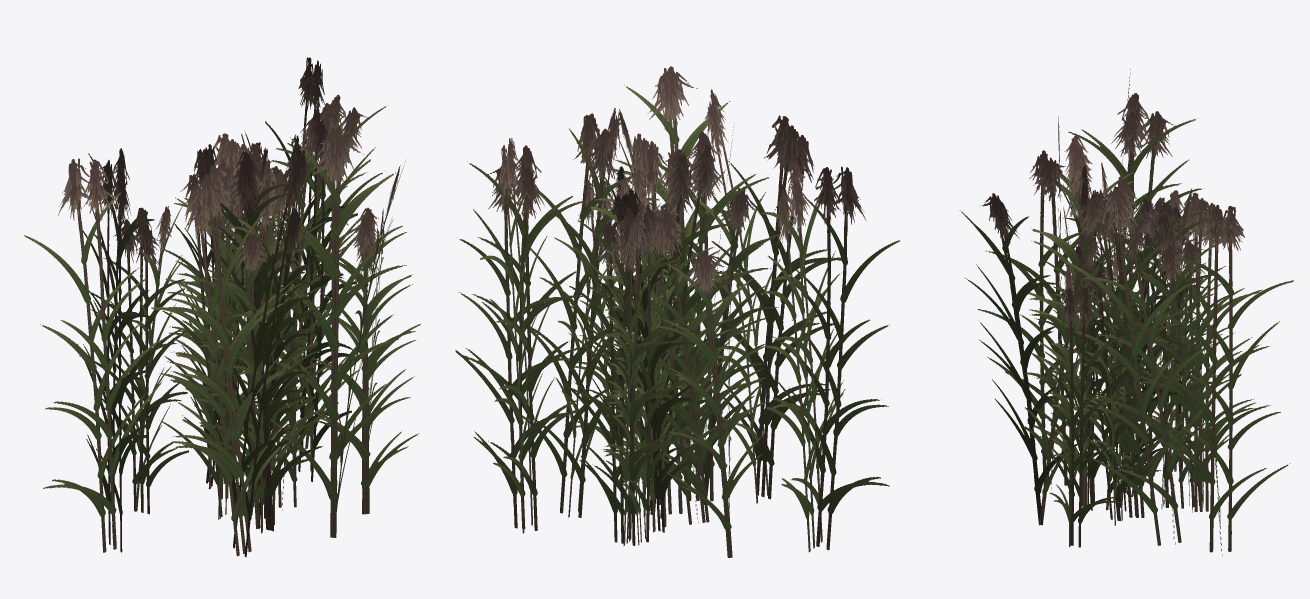
The model's file is rakos_2.glb.
3 renders of one model, left to right at view 1: azimuth 30°, elevation 25°; view 2: azimuth 150°, elevation 25°; view 3: azimuth 270°, elevation 25°, orthographic. The views are drawn at different scales.
Visible parts, largest first — view 1: rakos_2; view 2: rakos_2; view 3: rakos_2.
Boxes of the visible parts, x1,y1,x2,y2 form: rakos_2: (24, 57, 420, 557); rakos_2: (455, 66, 899, 557); rakos_2: (959, 69, 1293, 556).
Bounding box in the file's own units: 2.82 × 2.82 × 2.3.
1 material, 1 textured.
